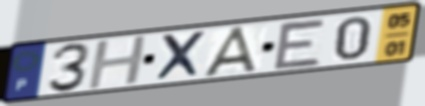0: (333, 15, 376, 62)
3: (47, 41, 92, 94)
A: (200, 24, 263, 78)
E: (271, 17, 329, 71)
H: (85, 33, 150, 92)
X: (153, 29, 209, 83)
